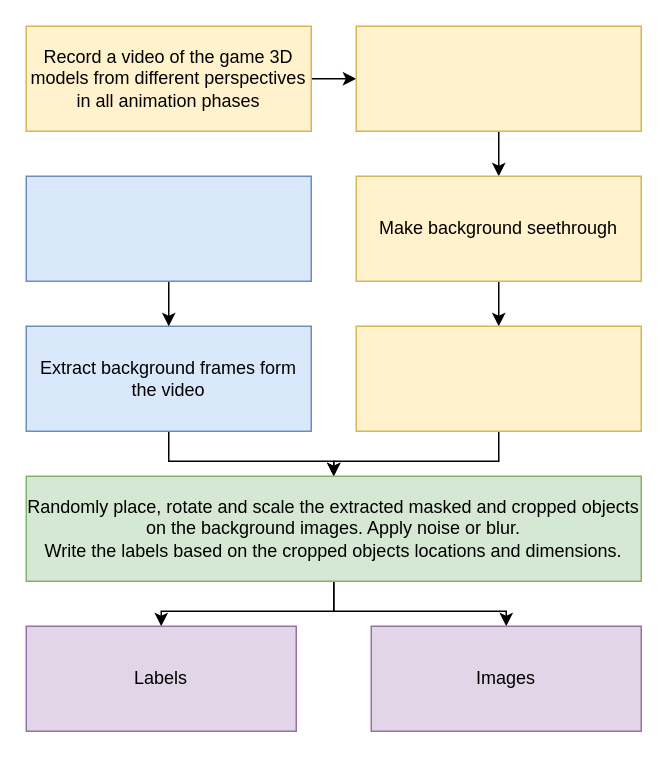
The diagram is 668 pixels wide and 758 high, and some of its shapes have lost their labels. Each missing label, with the centre of its shape:
"Crop image to only the visible content" belongs at (498,378).
"Extracting frames from the video" belongs at (498,78).
"Record a video of a flyover over the game map" belongs at (168,228).
